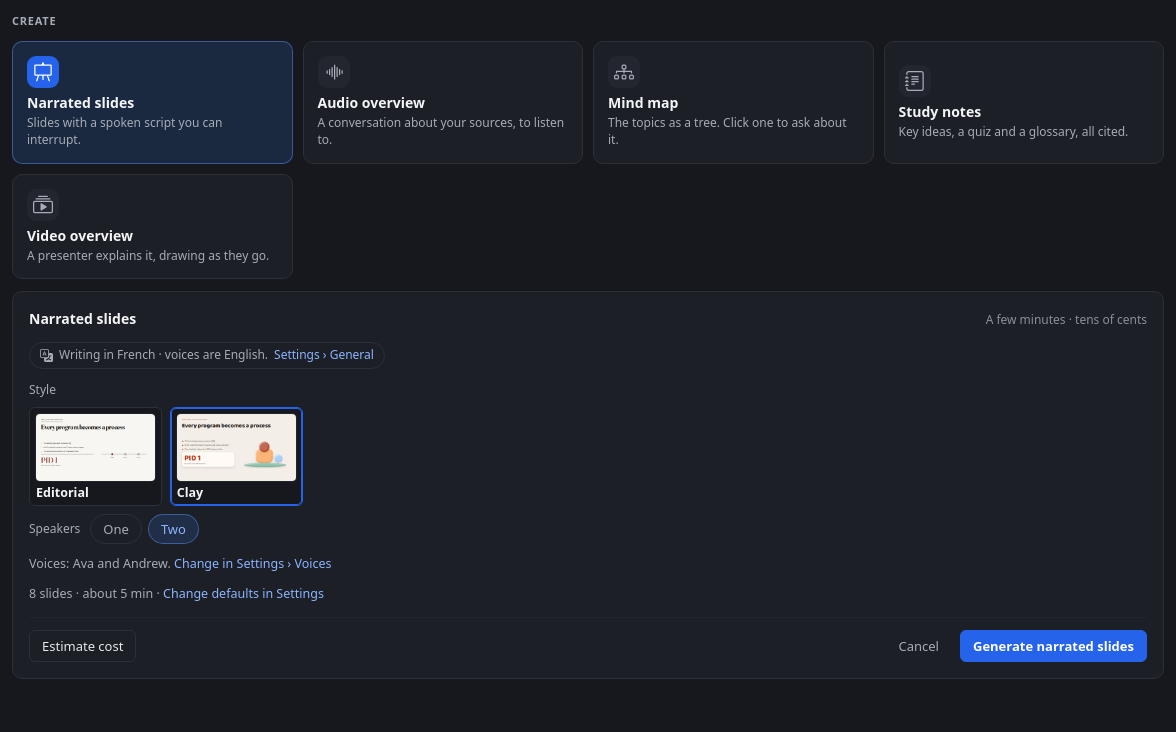
Test: the Create panel's options, from the server › offers one or two speakers for narrated slides, starting on the settings' count
The image size is (1176, 732).
Click the radio button labelled "One": (116, 529) x1=90 y1=514 x2=142 y2=544
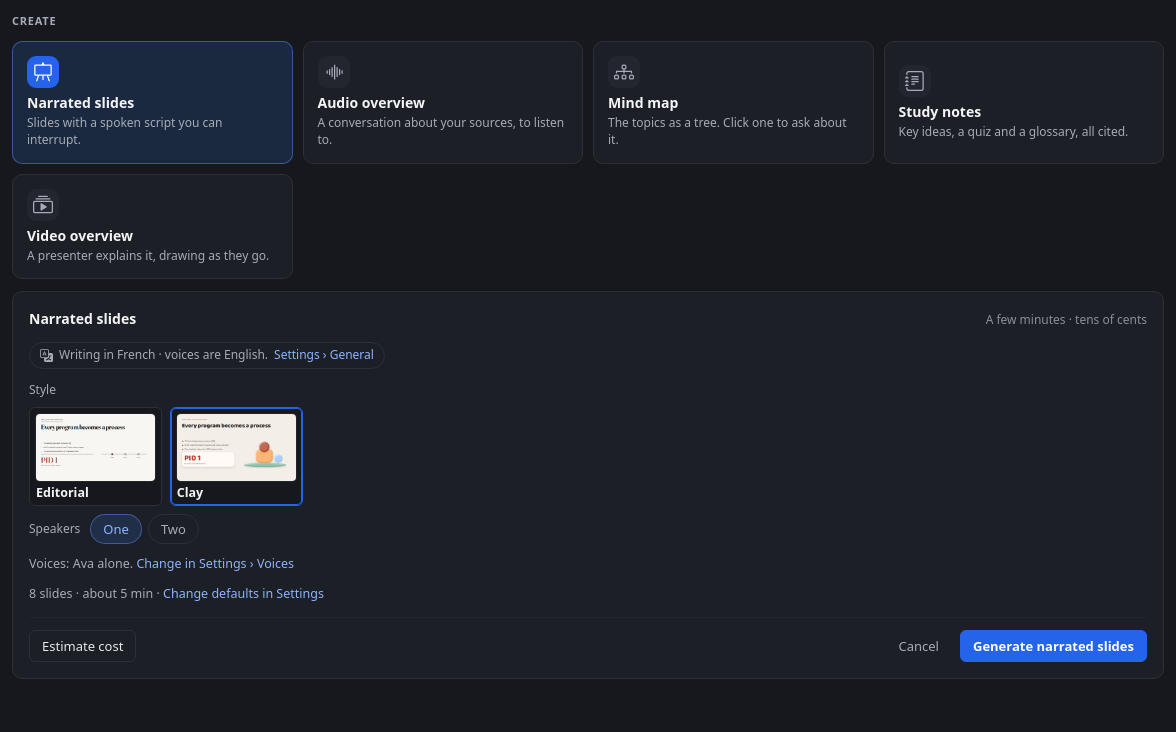
Expected: the text "Voices: Ava alone." is shown, x1=29 y1=555 x2=136 y2=572
